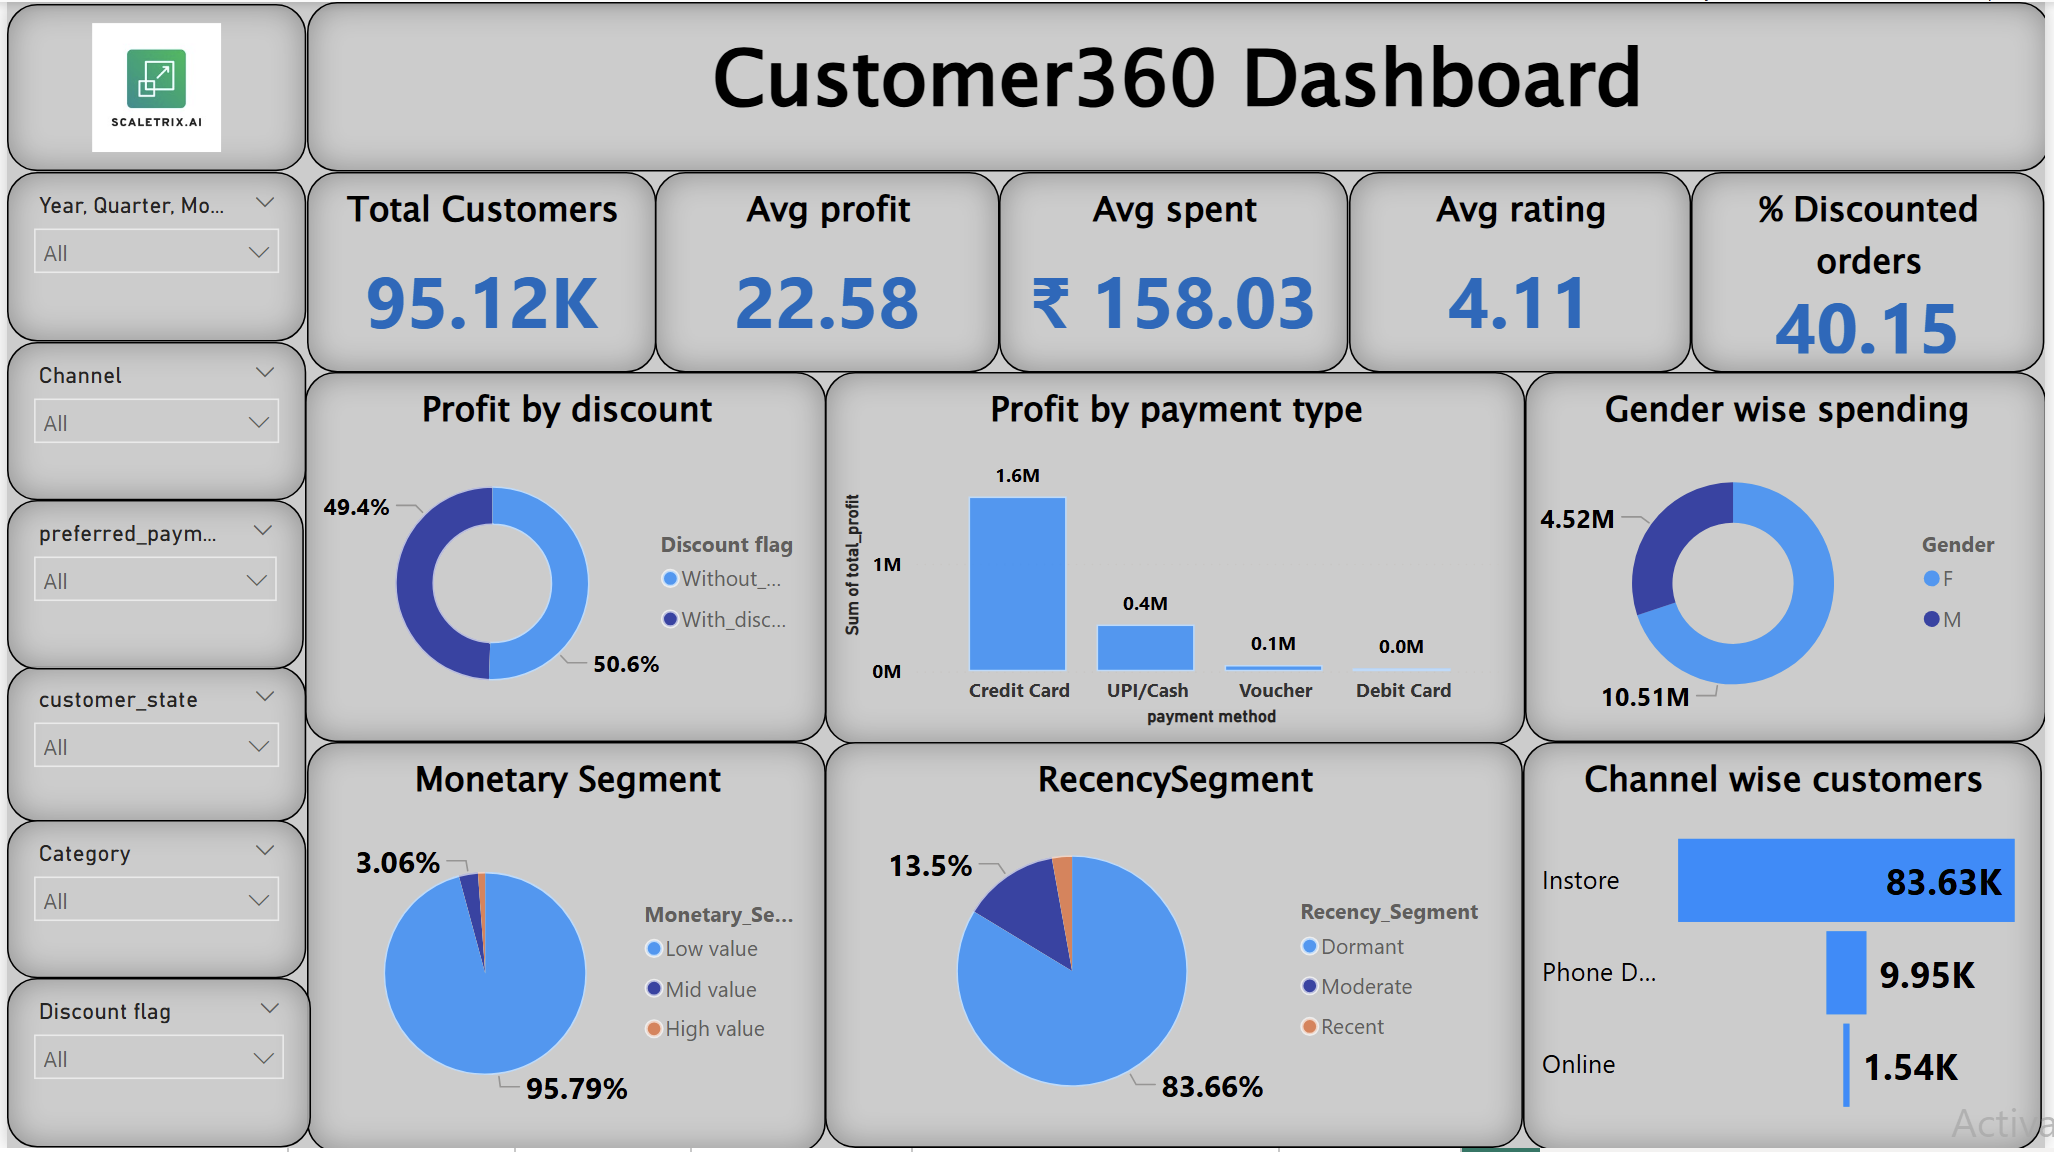

Layout of this report page (visuals, bound fields, positions):
{"tool":"powerbi","page":{"name":"Customer360","canvas":[1280,720],"ordinal":1},"visuals":[{"type":"textbox","box":[188.1,0,1094.8,106.7],"z":0},{"type":"image","box":[0,1.5,188.1,105.2],"z":1000},{"type":"card","title":"Total Customers","fields":{"Values":["CountNonNull(Customer360new.Custid)"]},"box":[188.1,106.7,219.3,125.9],"z":2000},{"type":"card","title":"Avg spent","fields":{"Values":["Customer360new.avg spent"]},"box":[623.7,106.7,219.3,125.9],"z":3000},{"type":"card","title":"Avg profit","fields":{"Values":["Avg(Customer360new.total_profit)"]},"box":[407.4,106.7,216.3,125.9],"z":4000},{"type":"card","title":"Avg rating","fields":{"Values":["Avg(Customer360new.average_customer_rating)"]},"box":[843,106.7,214.8,125.9],"z":5000},{"type":"donutChart","title":"Gender wise spending","fields":{"Category":["Customer360new.Gender"],"Y":["Sum(Customer360new.total_amount_spent)"]},"box":[954.1,232.6,327.4,232.6],"z":6000},{"type":"card","title":"% Discounted orders","fields":{"Values":["Customer360new.% of discounted orders"]},"box":[1057.8,106.7,222.2,125.9],"z":7000},{"type":"columnChart","title":"Profit by payment type","fields":{"Y":["Sum(Customer360new.total_profit)"],"Category":["Customer360new.preferred_payment_method"]},"box":[514.1,232.6,440,234.1],"z":8000},{"type":"donutChart","title":"Profit by discount","fields":{"Category":["Customer360new.Discount flag"],"Y":["Sum(Customer360new.total_profit)"]},"box":[186.7,232.6,327.4,232.6],"z":9000},{"type":"funnel","title":"Channel wise customers","fields":{"Category":["Order360new.Channel"],"Y":["CountNonNull(Customer360new.Custid)"]},"box":[952.6,465.2,325.9,256.3],"z":10000},{"type":"slicer","fields":{"Values":["Customer360new.customer_state"]},"box":[0,417.8,188.1,97.8],"z":11000},{"type":"slicer","fields":{"Values":["Order360new.Channel"]},"box":[0,213.3,188.1,99.3],"z":12000},{"type":"slicer","fields":{"Values":["Customer360new.preferred_payment_method"]},"box":[0,312.6,186.7,106.7],"z":13000},{"type":"slicer","fields":{"Values":["Order360new.order_date.Variation.Date Hierarchy.Year","Order360new.order_date.Variation.Date Hierarchy.Quarter","Order360new.order_date.Variation.Date Hierarchy.Month"]},"box":[0,106.7,188.1,106.7],"z":14000},{"type":"pieChart","title":"RecencySegment","fields":{"Category":["Customer360new.Recency_Segment"],"Y":["CountNonNull(Customer360new.Custid)"]},"box":[514.1,465.2,438.5,254.8],"z":15000},{"type":"pieChart","title":"Monetary Segment","fields":{"Category":["Customer360new.Monetary_Segment"],"Y":["CountNonNull(Customer360new.Custid)"]},"box":[188.1,465.2,325.9,257.8],"z":16000},{"type":"slicer","fields":{"Values":["Productsinfo.Category"]},"box":[0,514.1,188.1,99.3],"z":17000},{"type":"slicer","fields":{"Values":["Customer360new.Discount flag"]},"box":[0,613.3,191.1,106.7],"z":18000}]}

Visuals, with their boxes in screenshot pixels (x1, y1, x2, y2), scaled from the page's 1280x720 canvas onto the 2054x1152 screenshot:
textbox: <box>302,0,2053,171</box>
image: <box>0,2,302,171</box>
"Total Customers" card: <box>302,171,654,372</box>
"Avg spent" card: <box>1001,171,1353,372</box>
"Avg profit" card: <box>654,171,1001,372</box>
"Avg rating" card: <box>1353,171,1697,372</box>
"Gender wise spending" donutChart: <box>1531,372,2053,744</box>
"% Discounted orders" card: <box>1697,171,2053,372</box>
"Profit by payment type" columnChart: <box>825,372,1531,747</box>
"Profit by discount" donutChart: <box>300,372,825,744</box>
"Channel wise customers" funnel: <box>1529,744,2052,1151</box>
slicer - Customer360new.customer_state: <box>0,668,302,825</box>
slicer - Order360new.Channel: <box>0,341,302,500</box>
slicer - Customer360new.preferred_payment_method: <box>0,500,300,671</box>
slicer - Order360new.order_date.Variation.Date Hierarchy.Year x Order360new.order_date.Variation.Date Hierarchy.Quarter: <box>0,171,302,341</box>
"RecencySegment" pieChart: <box>825,744,1529,1151</box>
"Monetary Segment" pieChart: <box>302,744,825,1151</box>
slicer - Productsinfo.Category: <box>0,823,302,981</box>
slicer - Customer360new.Discount flag: <box>0,981,307,1151</box>
